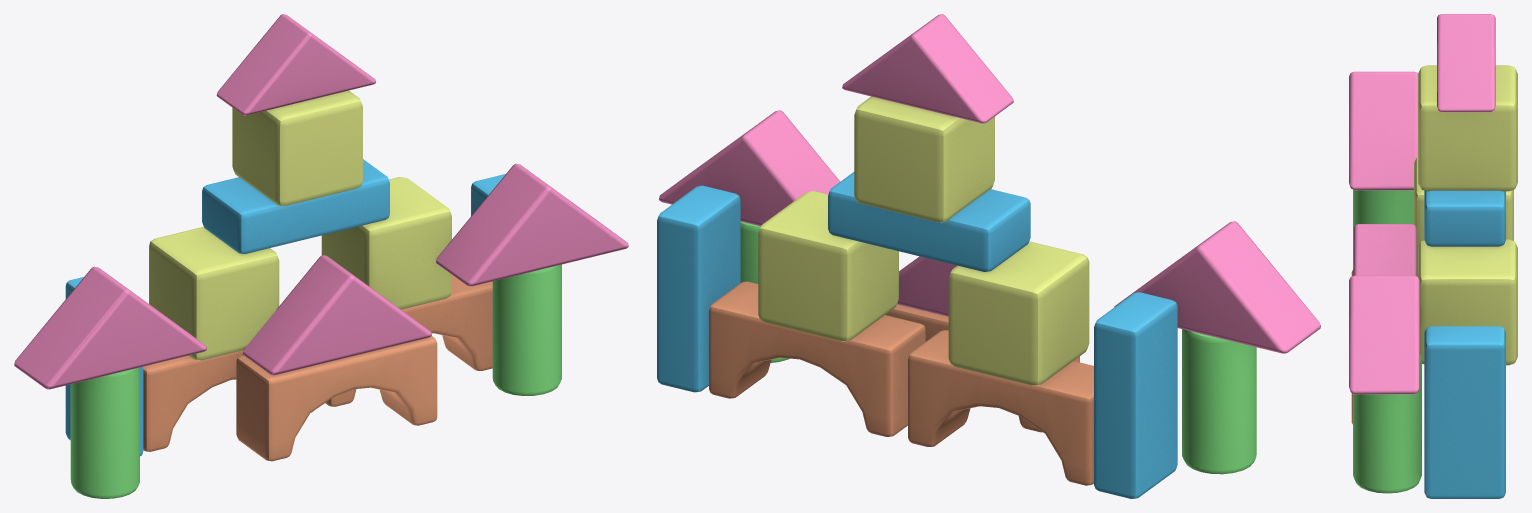
File: tumikicastel.fbx
3 renders of one model, left to right at view 1: azimuth 30°, elevation 25°; view 2: azimuth 150°, elevation 25°; view 3: azimuth 270°, elevation 25°, orthographic. The views are drawn at different scales.
Parts seen in each view (by area): view 1: hasi, cube1, sankaku3, sankaku1, cube2, sankaku, cube, nagacube, sankaku2, entyu, entyu1, hasi1 (+2 smaller); view 2: cube1, nagacube1, hasi2, cube, cube2, nagacube2, hasi1, sankaku1, nagacube, entyu1, sankaku2, sankaku3 (+3 smaller); view 3: nagacube2, cube2, cube, sankaku3, sankaku1, entyu, sankaku2, nagacube, sankaku, entyu1, cube1.
Boxes of the visible parts, x1,y1,x2,y2 form: hasi: [236, 336, 437, 461]; cube1: [149, 226, 279, 360]; sankaku3: [436, 163, 628, 286]; sankaku1: [14, 266, 206, 389]; cube2: [232, 90, 362, 205]; sankaku: [242, 255, 431, 375]; cube: [321, 177, 451, 309]; nagacube: [202, 159, 389, 253]; sankaku2: [216, 14, 375, 115]; entyu: [492, 264, 561, 395]; entyu1: [70, 367, 139, 498]; hasi1: [143, 350, 313, 451]; cube1: [948, 241, 1089, 385]; nagacube1: [1094, 292, 1177, 498]; hasi2: [709, 281, 925, 436]; cube: [758, 191, 898, 341]; cube2: [854, 96, 994, 222]; nagacube2: [657, 185, 740, 392]; hasi1: [908, 330, 1093, 485]; sankaku1: [1114, 221, 1320, 353]; nagacube: [828, 172, 1030, 271]; entyu1: [1182, 329, 1256, 474]; sankaku2: [842, 14, 1013, 123]; sankaku3: [659, 110, 840, 226]; nagacube2: [1424, 326, 1505, 498]; cube2: [1418, 65, 1517, 191]; cube: [1418, 239, 1517, 365]; sankaku3: [1349, 275, 1419, 394]; sankaku1: [1349, 71, 1418, 190]; entyu: [1353, 354, 1421, 493]; sankaku2: [1437, 14, 1495, 112]; nagacube: [1424, 190, 1505, 246]; sankaku: [1353, 224, 1416, 276]; entyu1: [1353, 190, 1413, 268]; cube1: [1414, 156, 1513, 276].
Bounding box in the file's own units: 19.32 × 11.97 × 4.88.
